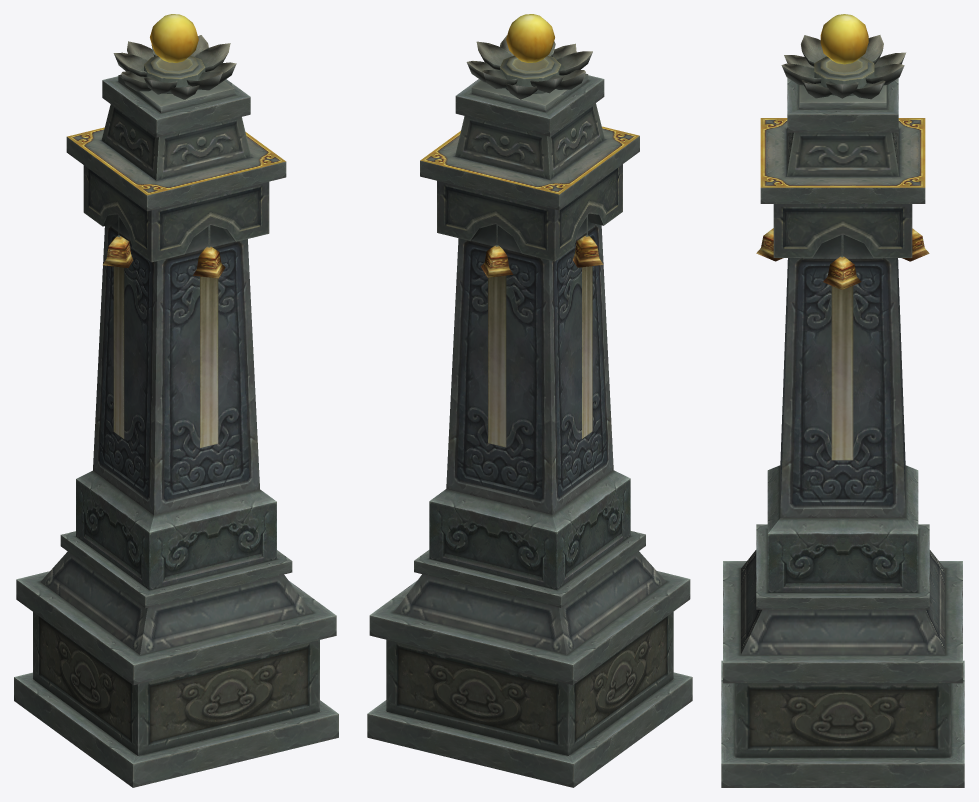
File: lian_hua_zhu_003.FBX
3 renders of one model, left to right at view 1: azimuth 30°, elevation 25°; view 2: azimuth 150°, elevation 25°; view 3: azimuth 270°, elevation 25°, orthographic. The views are drawn at different scales.
Parts seen in each view (by area): view 1: lian_hua_zhu_003_a01; view 2: lian_hua_zhu_003_a01; view 3: lian_hua_zhu_003_a01.
Boxes of the visible parts, x1=… form: lian_hua_zhu_003_a01: x1=14, y1=14, x2=338, y2=787; lian_hua_zhu_003_a01: x1=367, y1=14, x2=692, y2=787; lian_hua_zhu_003_a01: x1=721, y1=14, x2=964, y2=787.
Bounding box in the file's own units: 216 × 706 × 216.
1 material, 1 textured.
